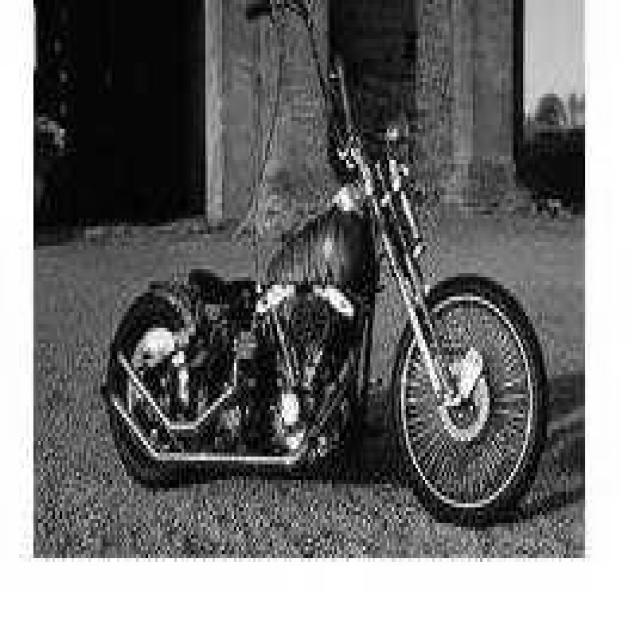Motorcycle: (104, 4, 546, 524)
